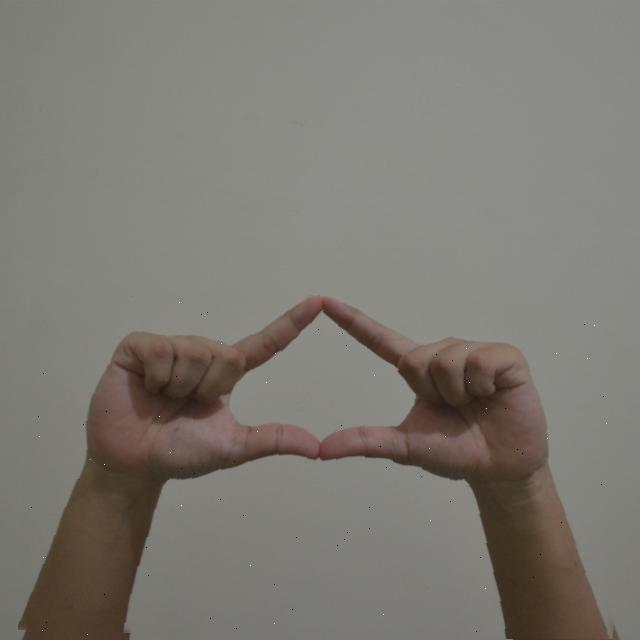A: (18, 296, 609, 640)
